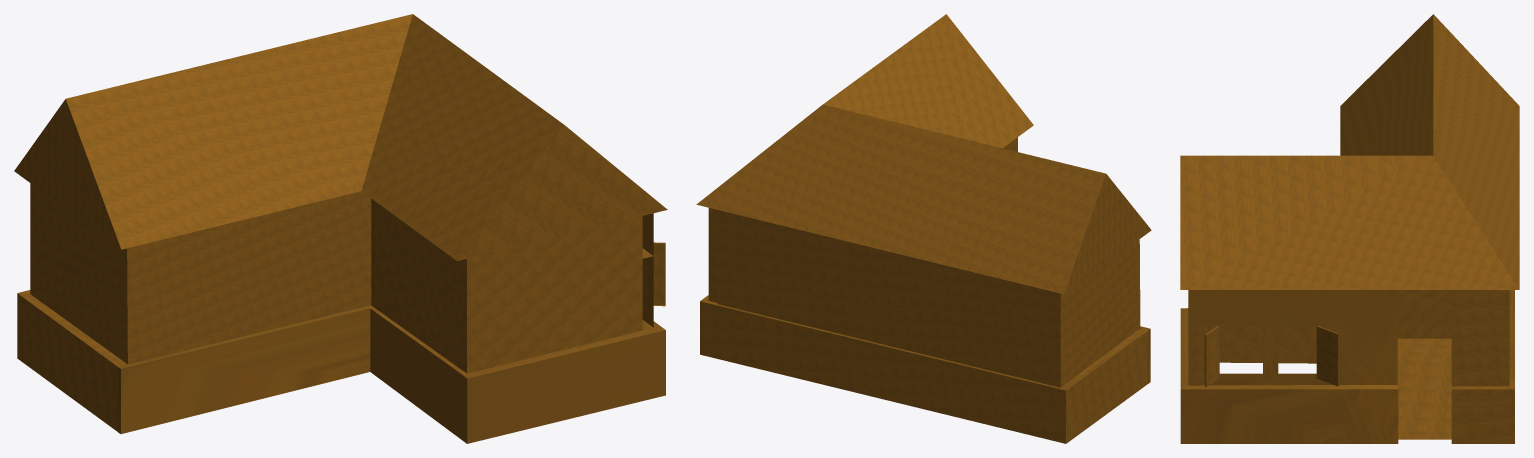
The model's file is house.obj.
3 renders of one model, left to right at view 1: azimuth 30°, elevation 25°; view 2: azimuth 150°, elevation 25°; view 3: azimuth 270°, elevation 25°, orthographic. The views are drawn at different scales.
Visible parts, largest first — view 1: Cube; view 2: Cube; view 3: Cube.
Boxes of the visible parts, x1,y1,x2,y2 form: Cube: (14, 14, 667, 443); Cube: (696, 14, 1151, 443); Cube: (1180, 14, 1519, 443).
Size of the model in its own units: 10.31 by 6.27 by 7.81.
